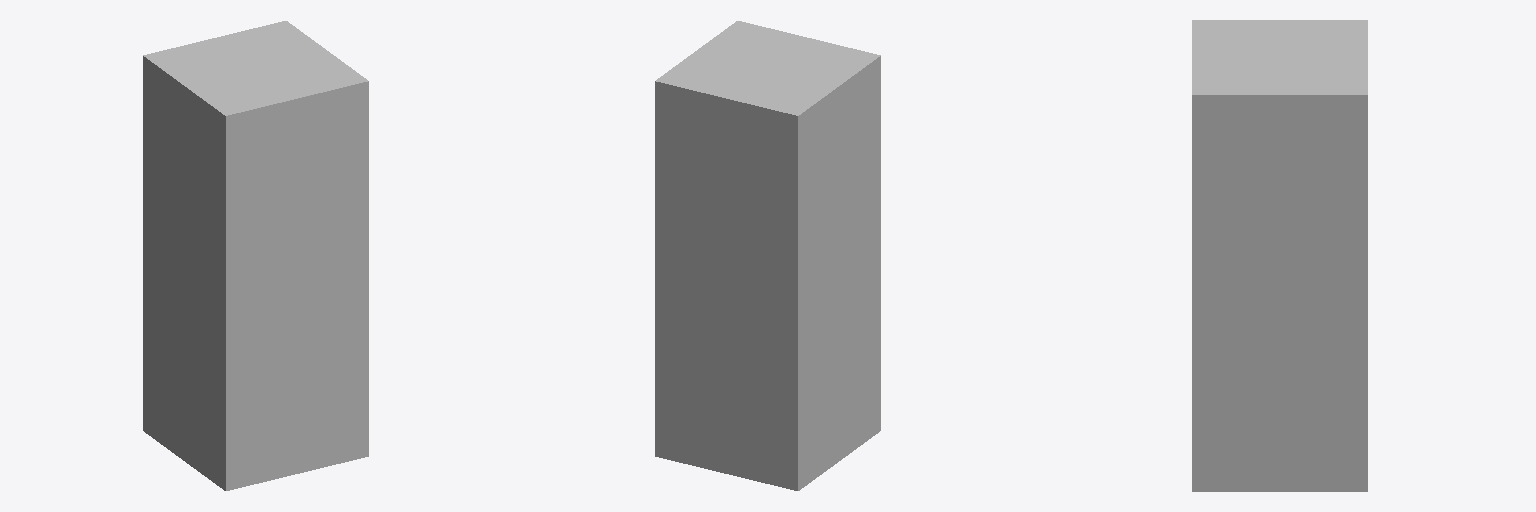
The robot description file, URDF, robot "base":
<?xml version="0.0" ?>
<robot name="base">
    <link name="base_link">
        <contact>
            <lateral_friction value="1"/>
        </contact>
        <inertial>
            <origin rpy="0 0 0" xyz="0 0 0"/>
            <mass value=".3"/>
            <inertia ixx="0" ixy="0" ixz="0" iyy="0" iyz="0" izz="0"/>
        </inertial>
        <visual>
            <origin rpy="0 0 0" xyz="0 0 0"/>
            <geometry>
                <box size="0.4 0.4 1.0"/>
            </geometry>
            <material name="grey">
                <color rgba="0.8 0.8 0.8 1"/>
            </material>
        </visual>
        <collision>
            <origin rpy="0 0 0" xyz="0 0 0"/>
            <geometry>
                <box size="0.4 0.4 1.0"/>
            </geometry>
        </collision>
    </link>
</robot>

--- Facts derived from the render (not from the file) ---
Views: 3 orthographic renders of the robot side by side, from view 1: azimuth 30°, elevation 25°; view 2: azimuth 150°, elevation 25°; view 3: azimuth 270°, elevation 25°.
Model base with 1 links and 0 joints (none), rooted at base_link, posed every joint at zero.
Links seen in each view (by area): view 1: base_link; view 2: base_link; view 3: base_link.
Boxes of the visible links, bbox=[...] form: base_link: bbox=[143, 21, 368, 490]; base_link: bbox=[655, 21, 880, 490]; base_link: bbox=[1192, 20, 1367, 491].
Bounding box of the posed robot: 0.4 × 0.4 × 1 m (x, y, z).
Geometry: primitives only (box / cylinder / sphere), no mesh files.